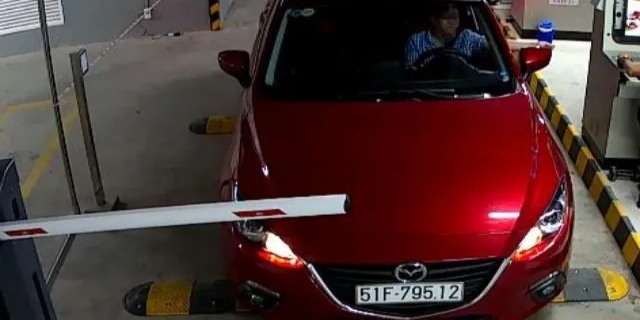bien_so: (355, 282, 463, 304)
